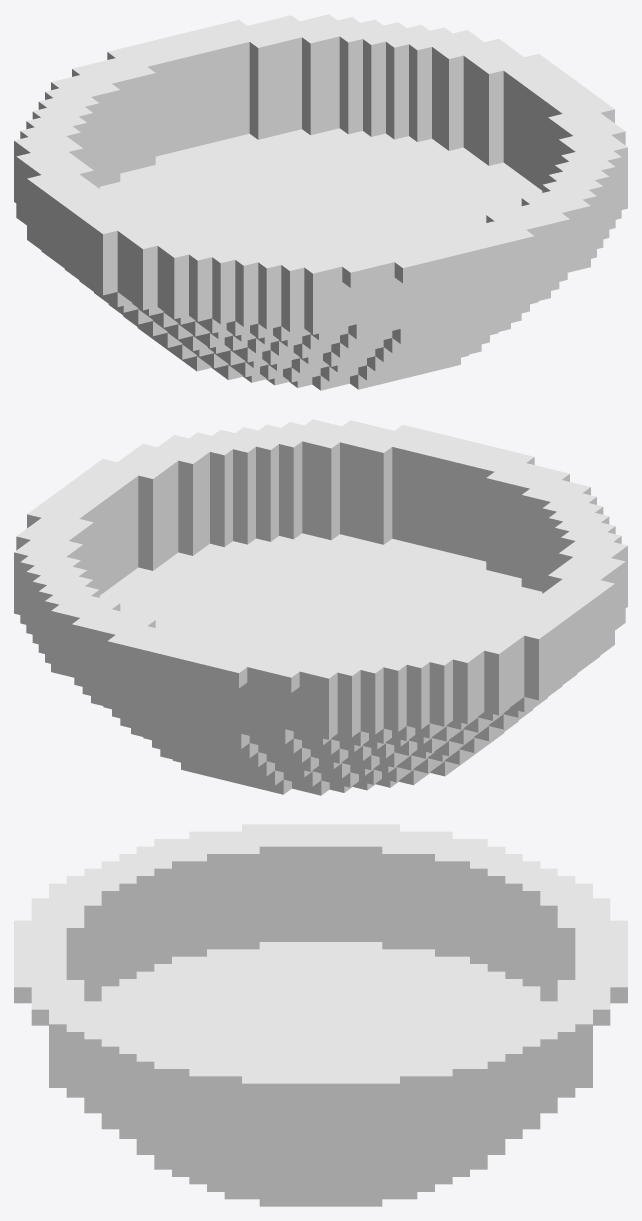
Rendered from BowlHuTieu.obj.
The picture shows the model from 3 angles, top to bottom: view 1: azimuth 30°, elevation 25°; view 2: azimuth 150°, elevation 25°; view 3: azimuth 270°, elevation 25°; orthographic projection. The views are drawn at different scales.
Bounding box in the file's own units: 3.5 × 1.1 × 3.5.
1 material, 1 textured.
